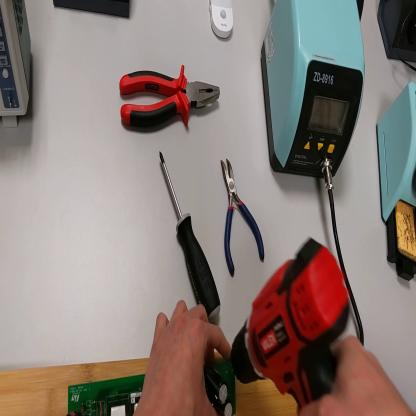electric screwdriver: (229, 235, 352, 405)
hand: (138, 299, 233, 415), (300, 334, 416, 416)
high voltage board: (67, 358, 238, 416)
oscilloscope: (2, 1, 36, 132)
pliers: (120, 60, 222, 136), (223, 158, 265, 275)
screwdriver-: (160, 149, 222, 322)
socket: (378, 2, 416, 65), (358, 3, 367, 22)
welder base: (376, 76, 416, 289)
welder station: (261, 3, 366, 176)
working area: (1, 350, 298, 416)
